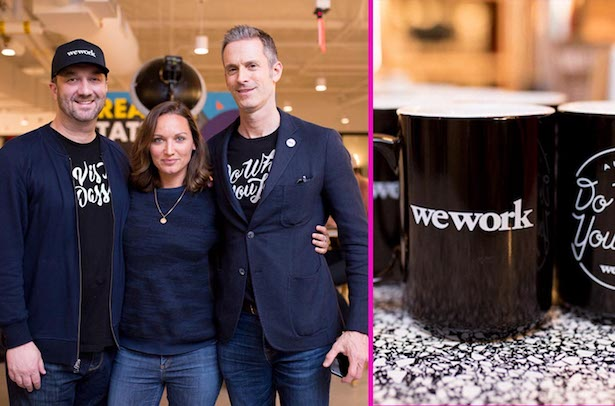wework: (408, 196, 537, 233)
